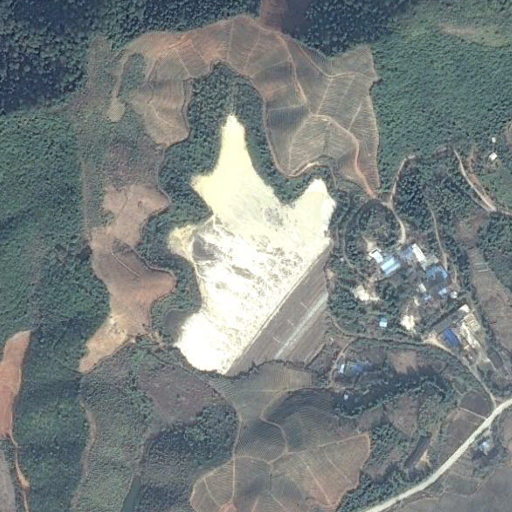tp: (165, 111, 341, 379)
